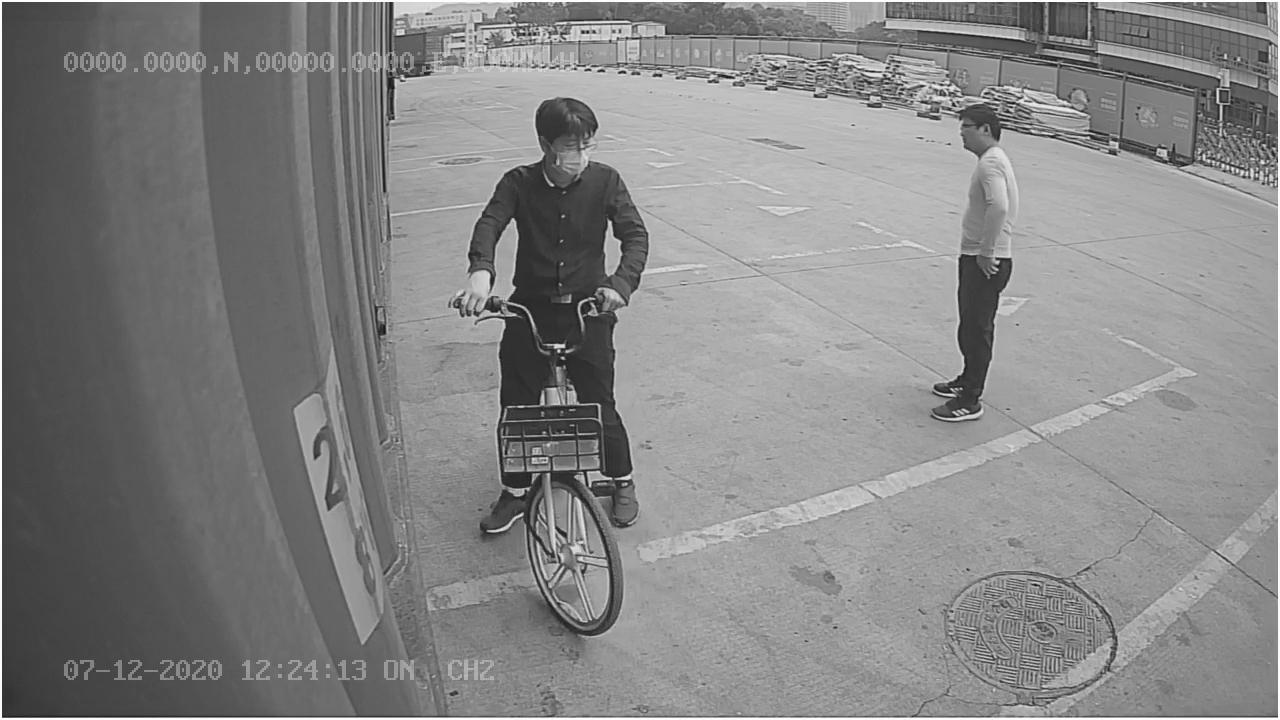person: (927, 104, 1018, 425)
